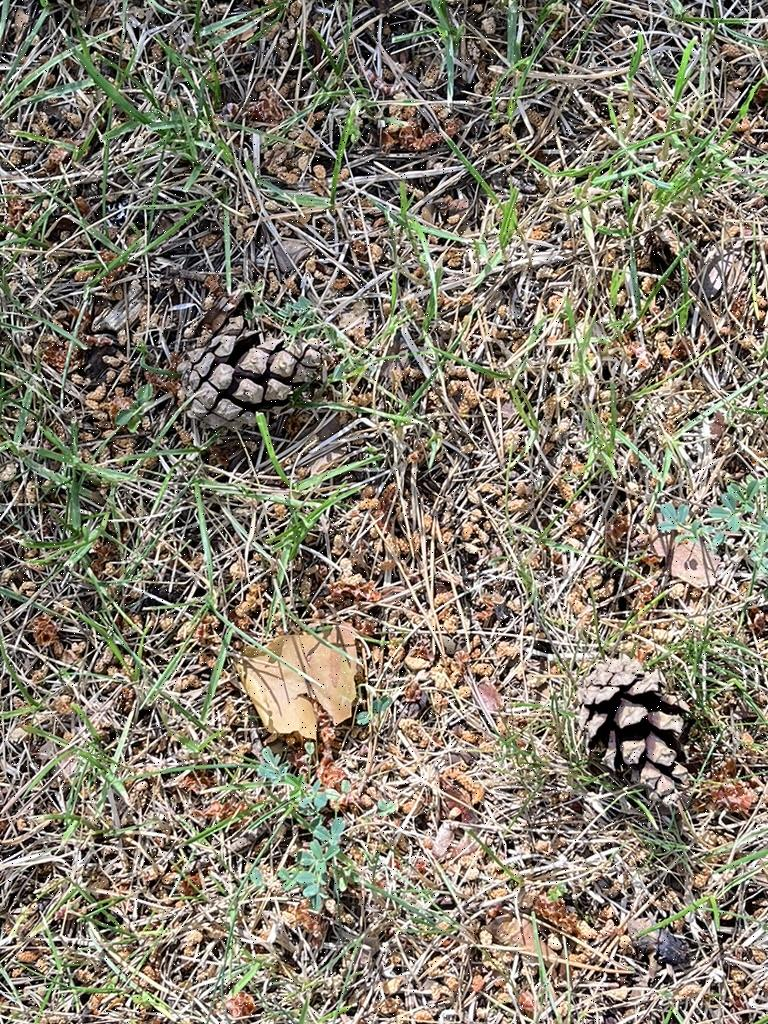pine: (561, 646, 721, 818), (176, 308, 348, 446)
